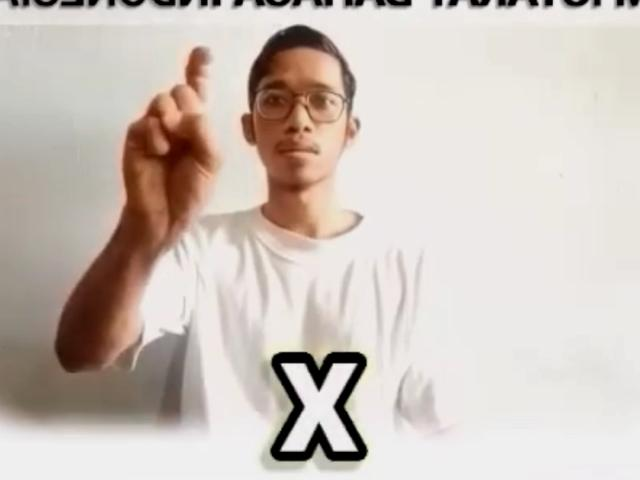X: (108, 38, 232, 246)
